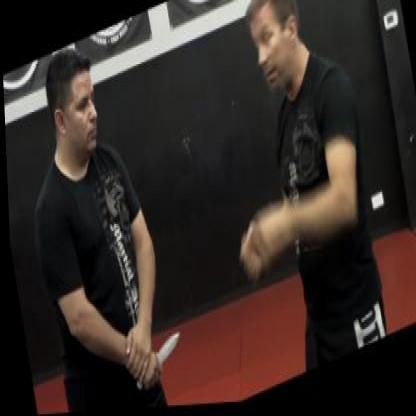knife: (123, 324, 185, 396)
